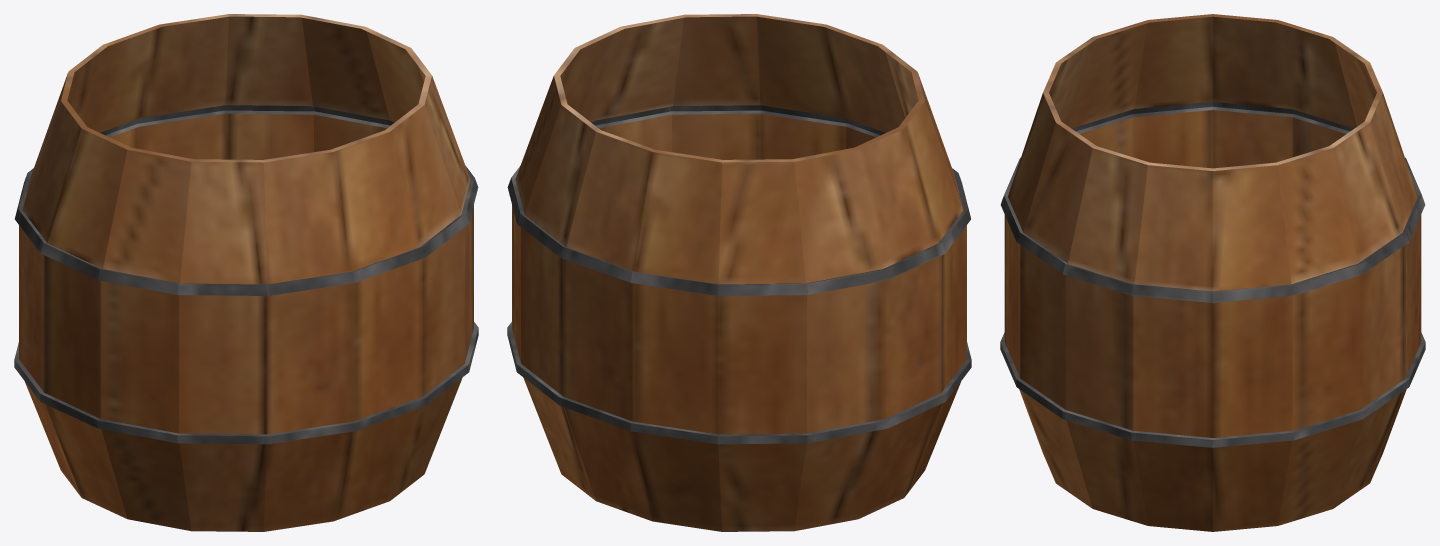
The model's file is barrel.fbx.
3 views of the same model, side by side, from view 1: azimuth 30°, elevation 25°; view 2: azimuth 150°, elevation 25°; view 3: azimuth 270°, elevation 25° (orthographic). The views are drawn at different scales.
Parts seen in each view (by area): view 1: barrel; view 2: barrel; view 3: barrel.
Boxes of the visible parts, x1,y1,x2,y2 form: barrel: [14, 14, 478, 531]; barrel: [507, 14, 971, 531]; barrel: [1000, 14, 1425, 531].
Bounding box in the file's own units: 12.15 × 10.4 × 11.11.
